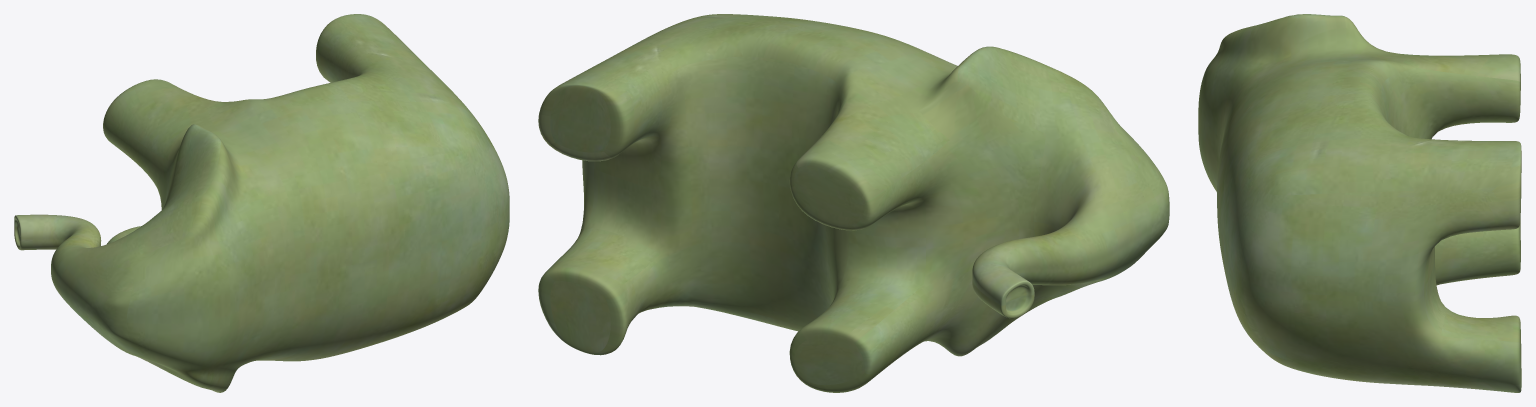
The model's file is 10018_Elephant_v1_L3.obj.
3 views of the same model, side by side, from view 1: azimuth 30°, elevation 25°; view 2: azimuth 150°, elevation 25°; view 3: azimuth 270°, elevation 25° (orthographic). The views are drawn at different scales.
Visible parts, largest first — view 1: 10018_Elephant_v01; view 2: 10018_Elephant_v01; view 3: 10018_Elephant_v01.
Boxes of the visible parts, x1,y1,x2,y2 form: 10018_Elephant_v01: (14,14,509,392); 10018_Elephant_v01: (538,14,1169,392); 10018_Elephant_v01: (1198,14,1521,392).
Bounding box in the file's own units: 166 × 93.55 × 104.
1 material, 1 textured.
